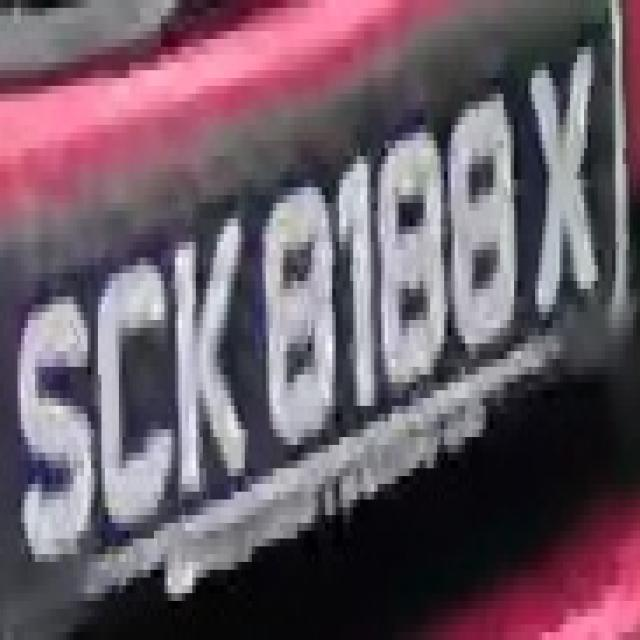1: (332, 132, 388, 452)
8: (248, 164, 343, 453), (444, 70, 525, 390), (374, 140, 444, 430)
C: (84, 210, 175, 578)
K: (161, 203, 259, 531)
S: (10, 257, 101, 608)
X: (518, 23, 616, 320)
